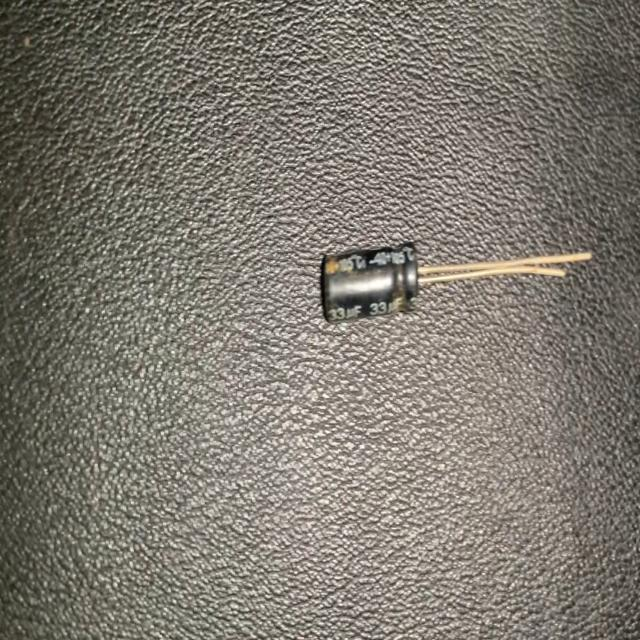capacitor: (316, 236, 595, 328)
rust: (391, 254, 410, 316), (320, 247, 347, 285)
